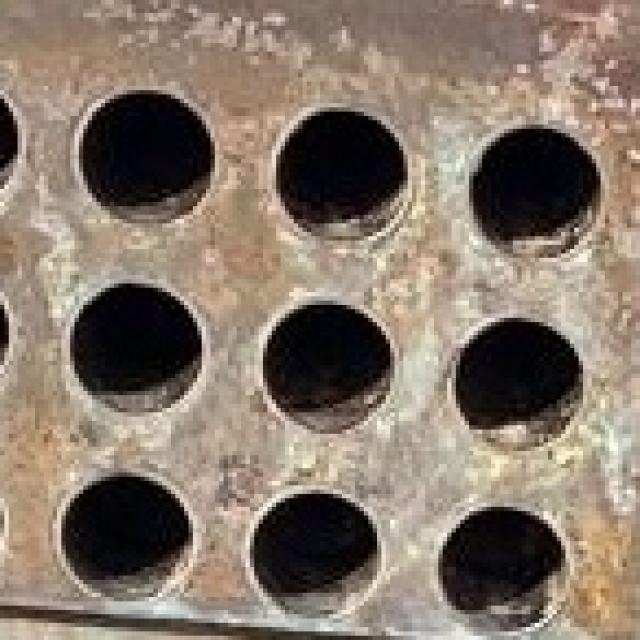Hole: (70, 81, 219, 228), (263, 103, 416, 245), (61, 275, 206, 421), (443, 310, 587, 456), (259, 292, 399, 442), (464, 121, 608, 259), (241, 486, 386, 622), (432, 499, 572, 634), (52, 474, 193, 604)
